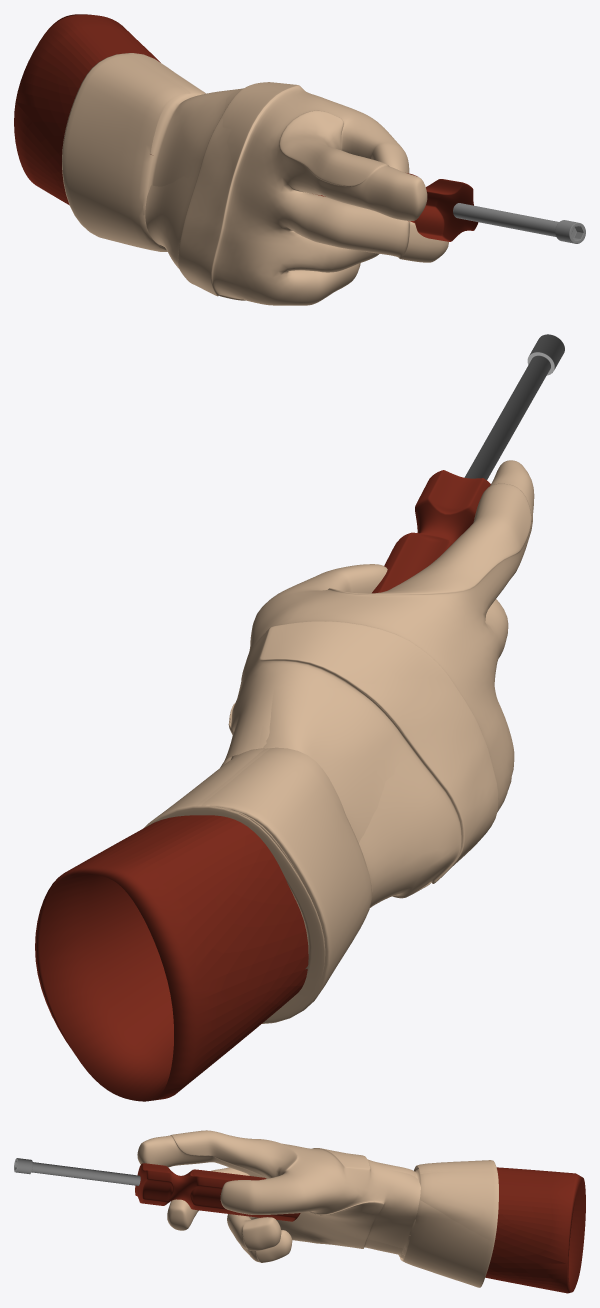
File: gloves-with screwdriver.fbx
3 views of the same model, one above another, from view 1: azimuth 30°, elevation 25°; view 2: azimuth 150°, elevation 25°; view 3: azimuth 270°, elevation 25° (orthographic). The views are drawn at different scales.
Visible parts, largest first — view 1: WorkGloves_RightWorkGloves, gloves.001_Cube.001, hex_head_screwdriver_body; view 2: WorkGloves_RightWorkGloves, gloves.001_Cube.001, hex_head_screwdriver_body; view 3: WorkGloves_RightWorkGloves, gloves.001_Cube.001, hex_head_screwdriver_body.
Boxes of the visible parts, x1,y1,x2,y2 form: WorkGloves_RightWorkGloves: (62,53,448,305); gloves.001_Cube.001: (14,14,160,205); hex_head_screwdriver_body: (318,173,585,243); WorkGloves_RightWorkGloves: (143,460,534,1023); gloves.001_Cube.001: (35,815,308,1101); hex_head_screwdriver_body: (372,334,564,593); WorkGloves_RightWorkGloves: (137,1130,498,1287); gloves.001_Cube.001: (485,1167,585,1293); hex_head_screwdriver_body: (14,1158,300,1221).
Bounding box in the file's own units: 413 × 511 × 1627.
